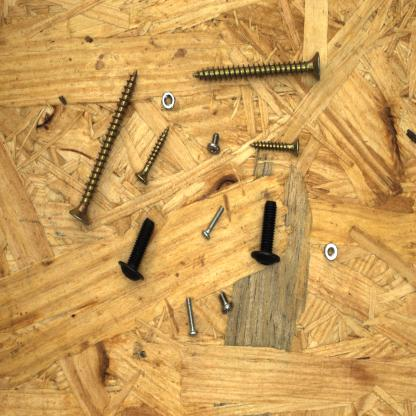screw: (67, 63, 142, 228), (190, 47, 325, 85), (114, 213, 157, 284), (245, 196, 284, 267), (133, 122, 173, 188), (246, 134, 303, 159), (200, 201, 227, 243), (183, 293, 201, 338), (204, 129, 226, 158), (218, 288, 236, 318)
